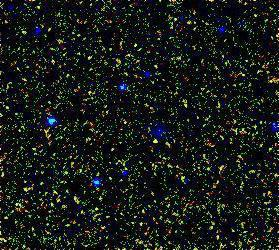star: (138, 127, 168, 157)
